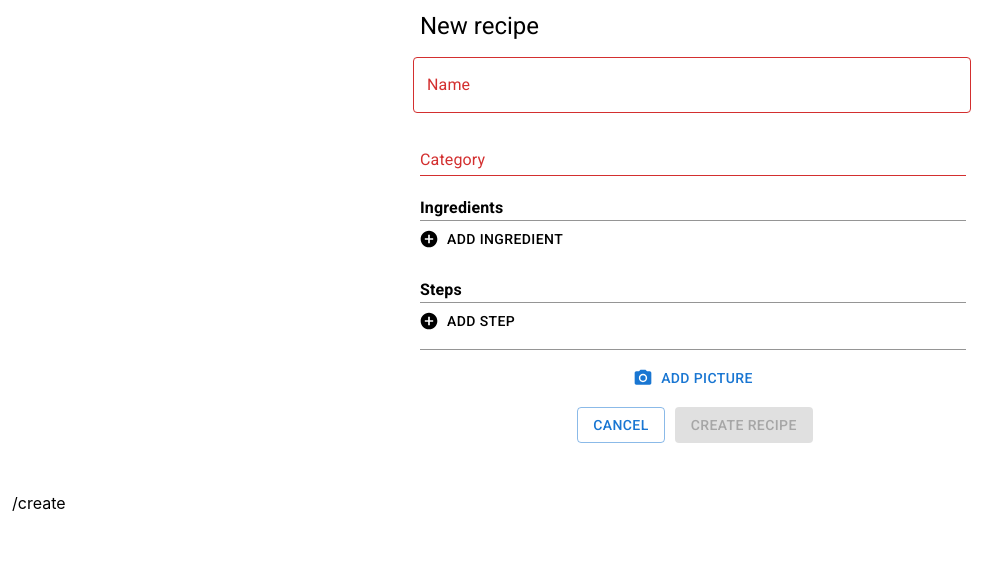
Test: RecipeEditor › a new recipe › shows why saving failed and keeps what was typed
Step 1. Type "Guláš" into the field labelled "Name" → (692, 85), box [413,57,971,113]
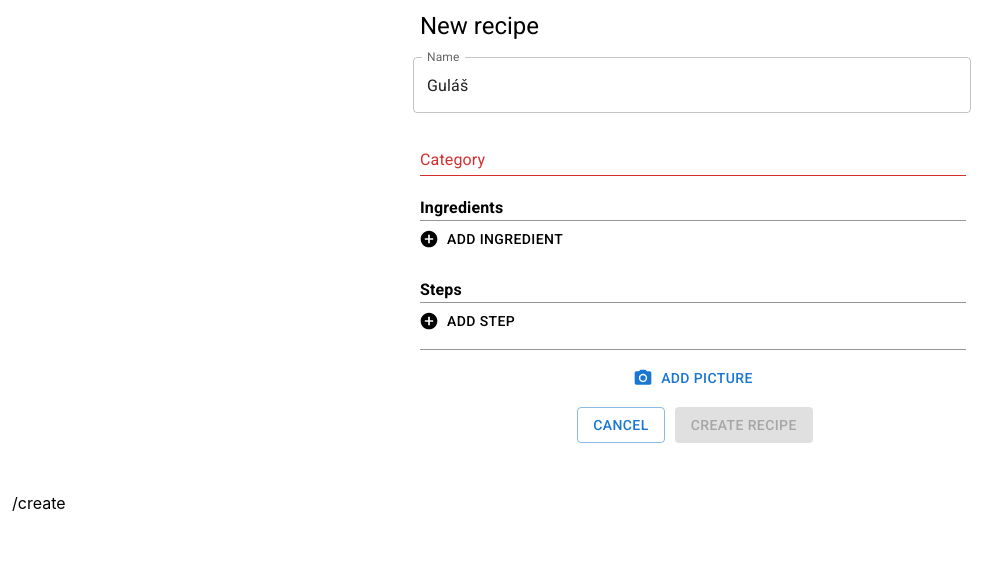
Step 2. Type "Maso" into the dropdown labelled "Category" → (678, 160), box [420,144,936,175]
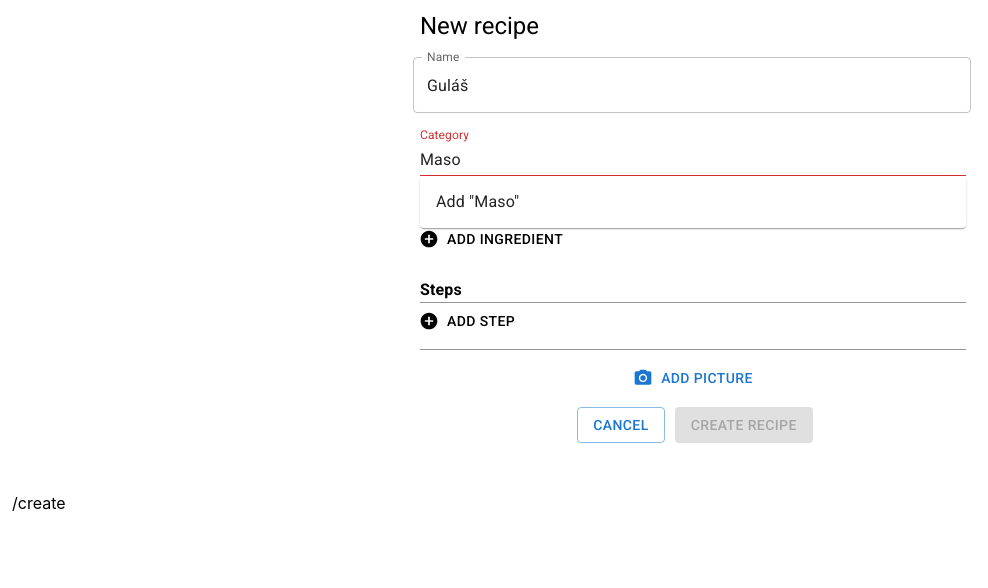
Step 3. Press Enter in the dropdown labelled "Category", box [420,144,936,175]
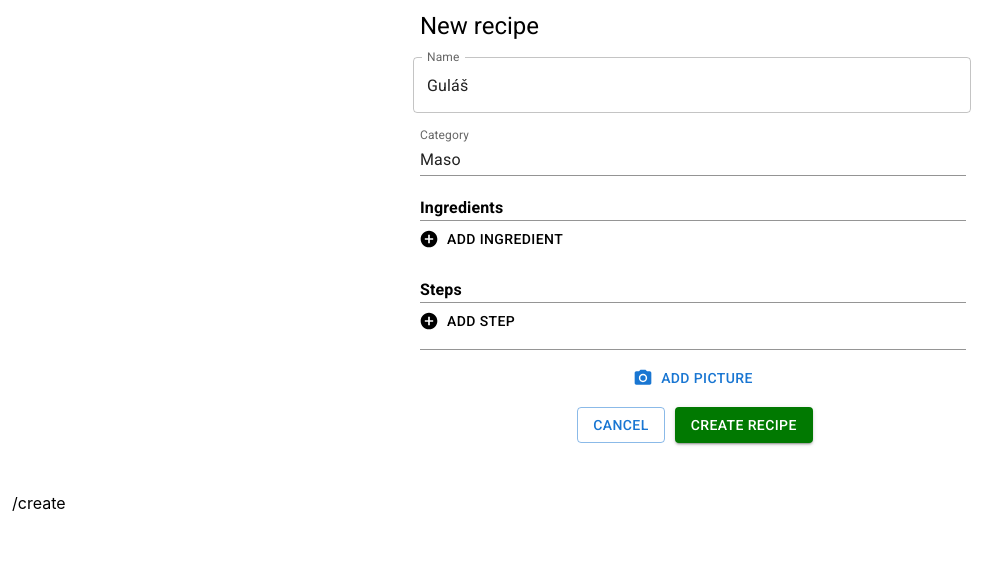
Step 4. Click the button "Create Recipe" → (744, 425), box [675,406,813,443]
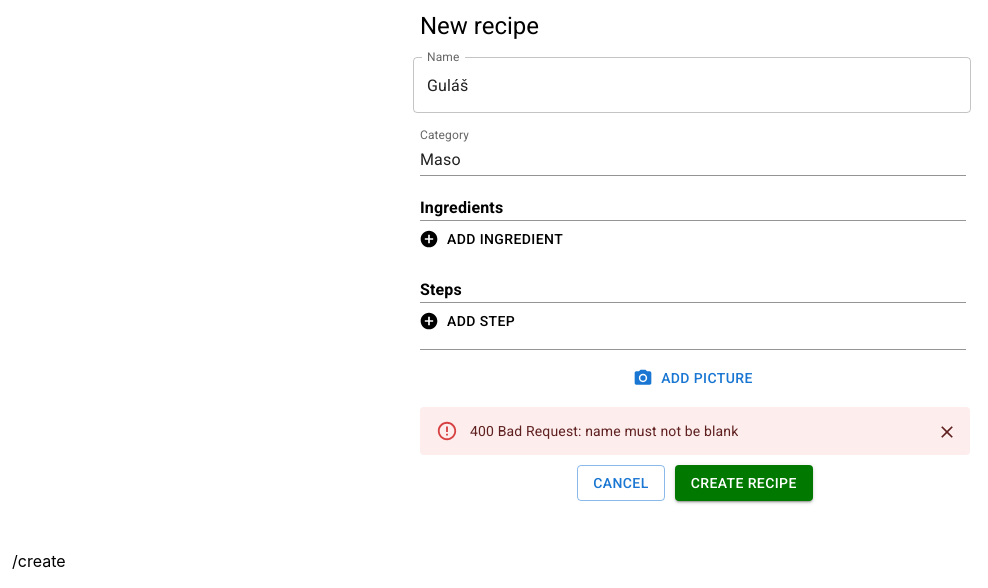
Expected: the text with test id "location" reads "/create", [12,551,66,571]
Expected: the button "Create Recipe" is enabled, [675,464,813,501]
Expected: the message reads "400 Bad Request: name must not be blank", [470,422,738,438]
